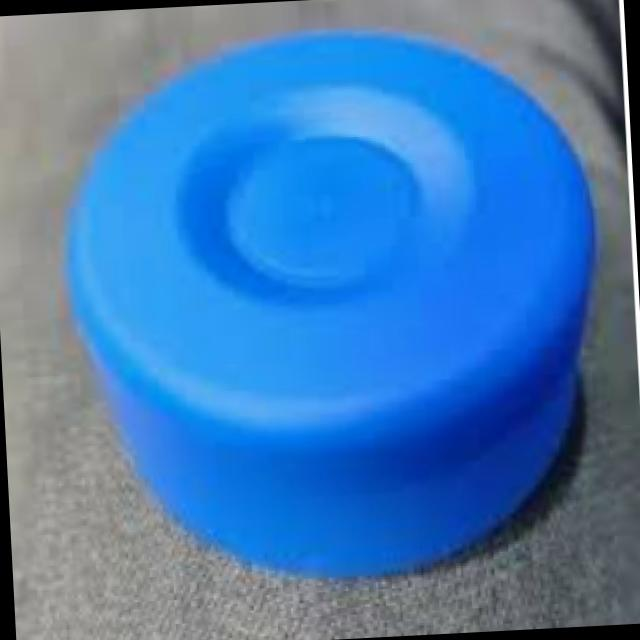TutupGalon: (47, 9, 618, 596)
